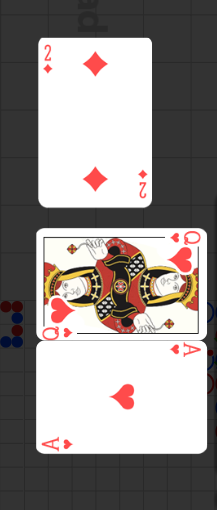2D: (137, 167, 150, 199), (43, 42, 55, 75)
AH: (169, 341, 203, 358)
